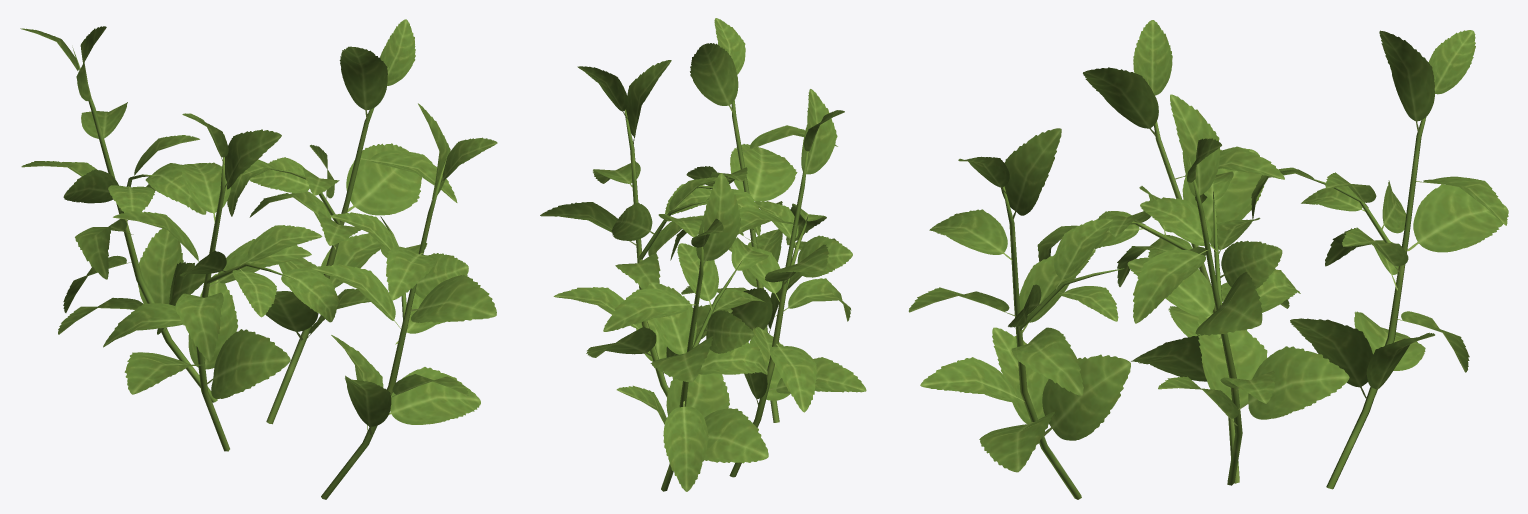
The model's file is basil.glb.
The picture shows the model from 3 angles, left to right: view 1: azimuth 30°, elevation 25°; view 2: azimuth 150°, elevation 25°; view 3: azimuth 270°, elevation 25°; orthographic projection. The views are drawn at different scales.
Visible parts, largest first — view 1: Basil; view 2: Basil; view 3: Basil.
Part boxes in pixels (x1,y1,x2,y2): Basil: (20, 19, 497, 499); Basil: (540, 18, 866, 491); Basil: (908, 20, 1508, 499).
Bounding box in the file's own units: 0.1972 × 0.2362 × 0.2927.
1 material, 1 textured.
